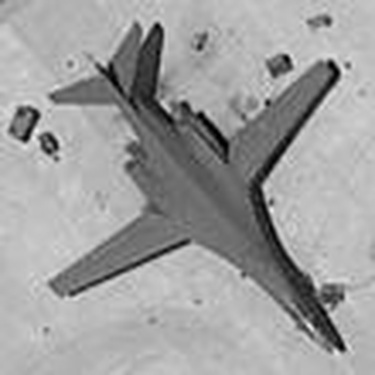airplane: (32, 8, 358, 366)
